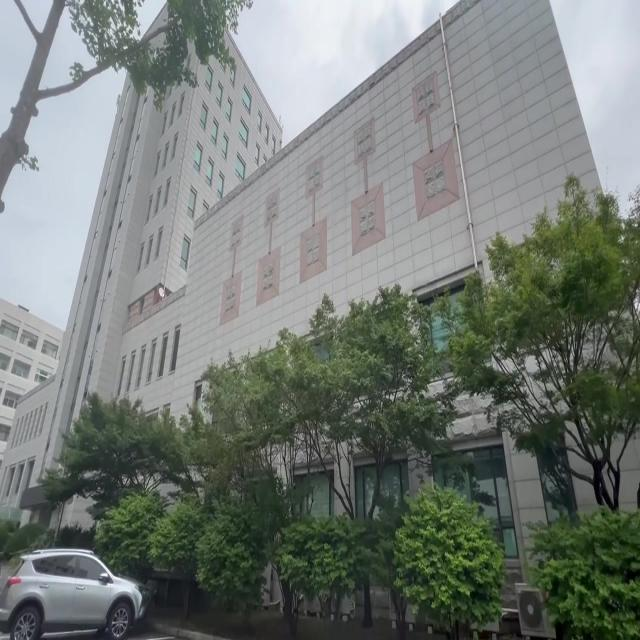building: (95, 90, 472, 311)
